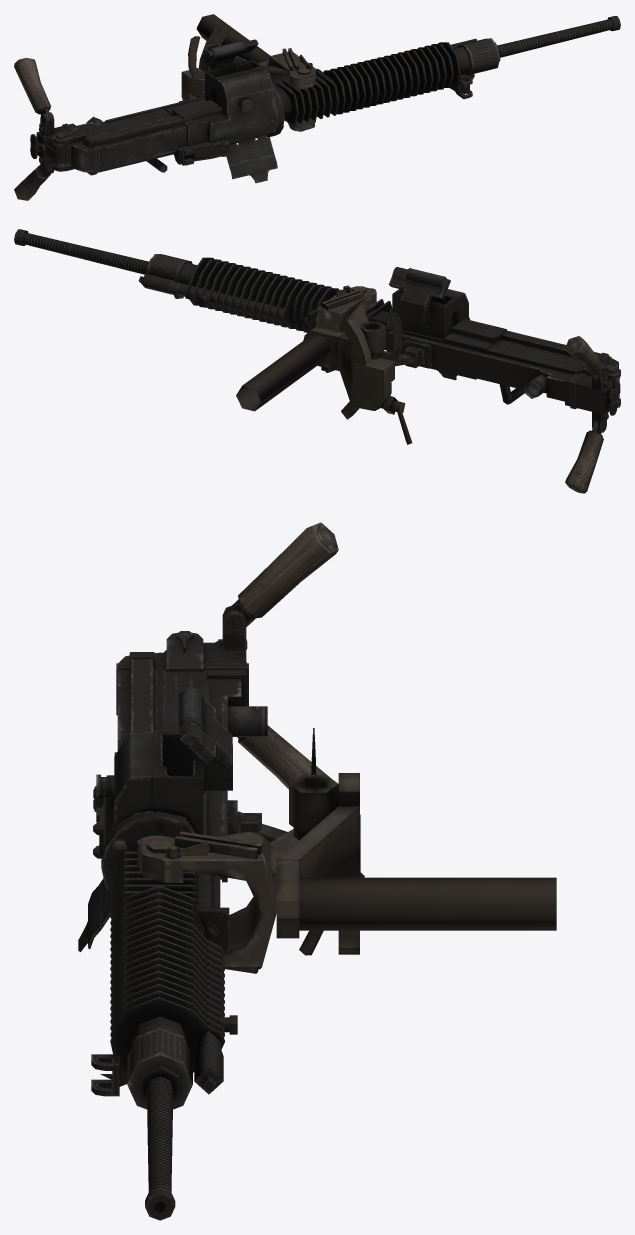
Rendered from weapon_jap_mg_type92_notripod_LOD11.obj.
The picture shows the model from 3 angles, top to bottom: view 1: azimuth 30°, elevation 25°; view 2: azimuth 150°, elevation 25°; view 3: azimuth 270°, elevation 25°; orthographic projection. The views are drawn at different scales.
Visible parts, largest first — view 1: TomGroup_0, TomGroup_1; view 2: TomGroup_0, TomGroup_1; view 3: TomGroup_0, TomGroup_1.
Part boxes in pixels (x1,y1,x2,y2): TomGroup_0: (14, 16, 620, 200); TomGroup_1: (179, 14, 315, 131); TomGroup_0: (14, 229, 620, 493); TomGroup_1: (236, 285, 412, 444); TomGroup_0: (78, 522, 338, 1220); TomGroup_1: (137, 728, 556, 973).
Bounding box in the file's own units: 119 × 28.64 × 43.41.
2 materials, 2 textured.
